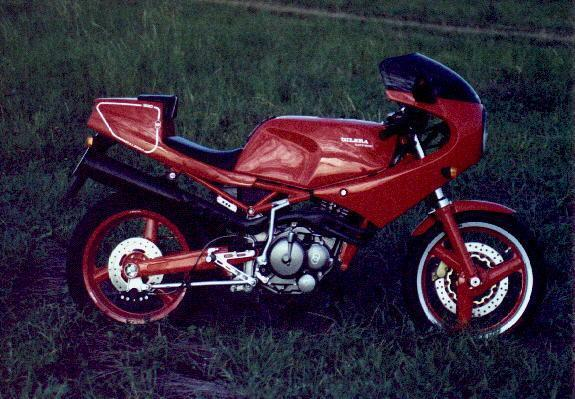motorcycle: (60, 41, 548, 359)
